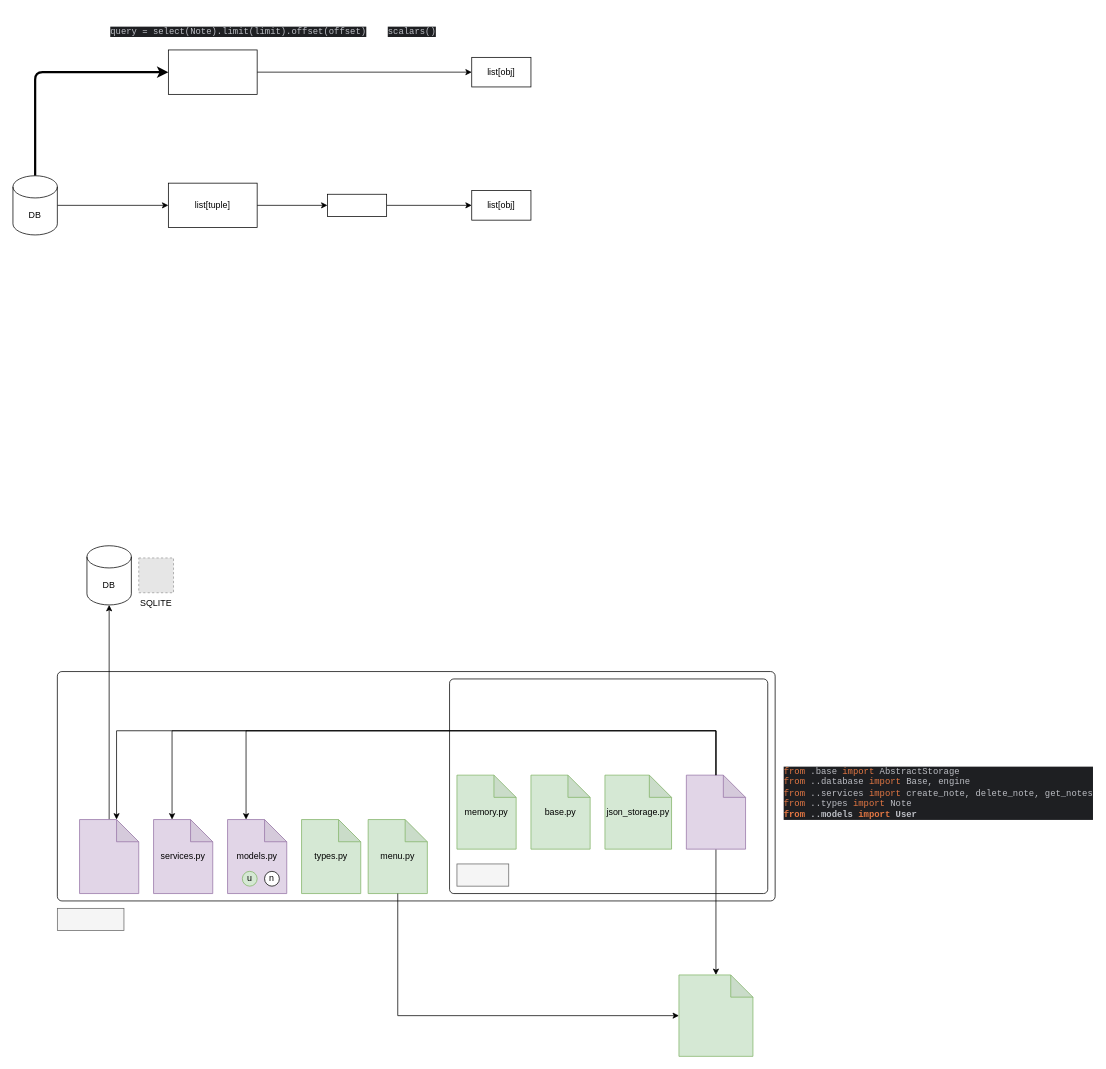
This 1106x1069 diagram has some shape labels left out. Grey dashed boxes stand in for pictures. Each missing label, with the centre of its shape:
"database.py" goes at [109,856].
"db_storage.py" goes at [716,811].
"list[Note] Много лишнего" goes at [212,71].
"storage_app" goes at [90,919].
"storage_main.py" goes at [715,1015].
"storages" goes at [482,874].
"tuple to obj" goes at [357,205].
